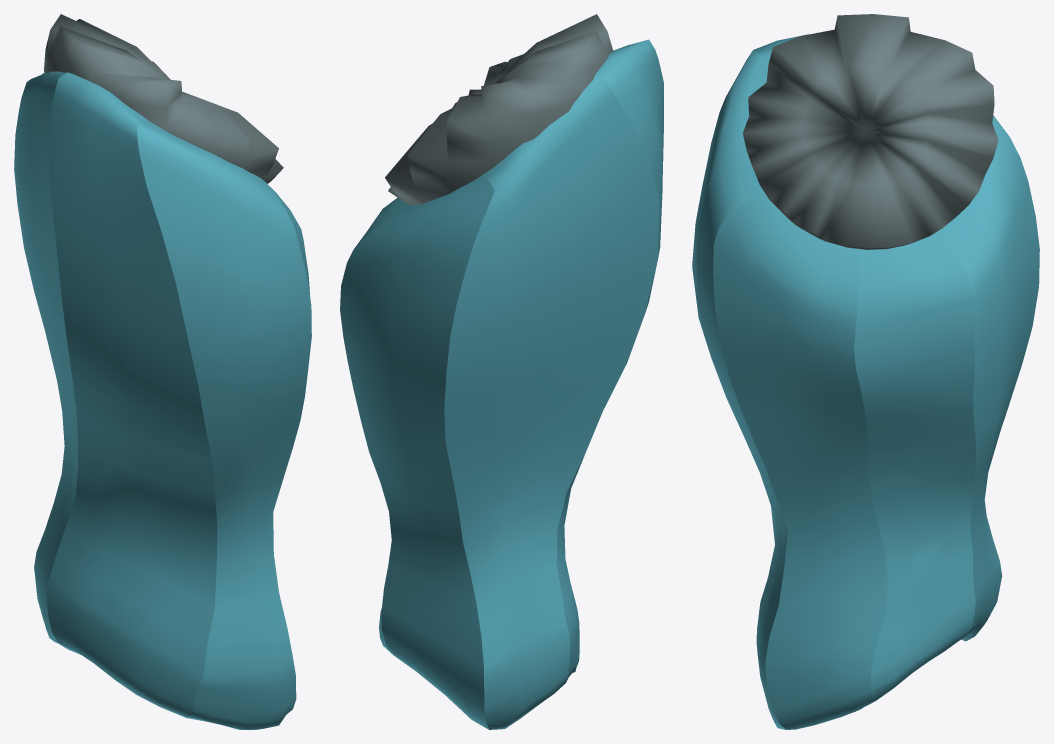
File: thigh.r.gltf
The picture shows the model from 3 angles, left to right: view 1: azimuth 30°, elevation 25°; view 2: azimuth 150°, elevation 25°; view 3: azimuth 270°, elevation 25°; orthographic projection. The views are drawn at different scales.
Parts seen in each view (by area): view 1: thigh.r; view 2: thigh.r; view 3: thigh.r.
Boxes of the visible parts, x1,y1,x2,y2 form: thigh.r: (14, 14, 311, 729); thigh.r: (340, 14, 663, 729); thigh.r: (692, 14, 1039, 729).
Size of the model in its own units: 0.3679 by 0.9428 by 0.4586.
